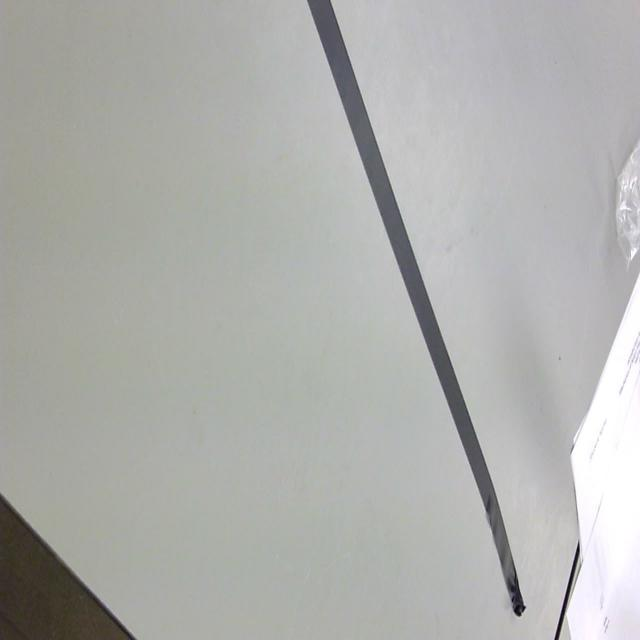tape: (295, 0, 538, 633)
